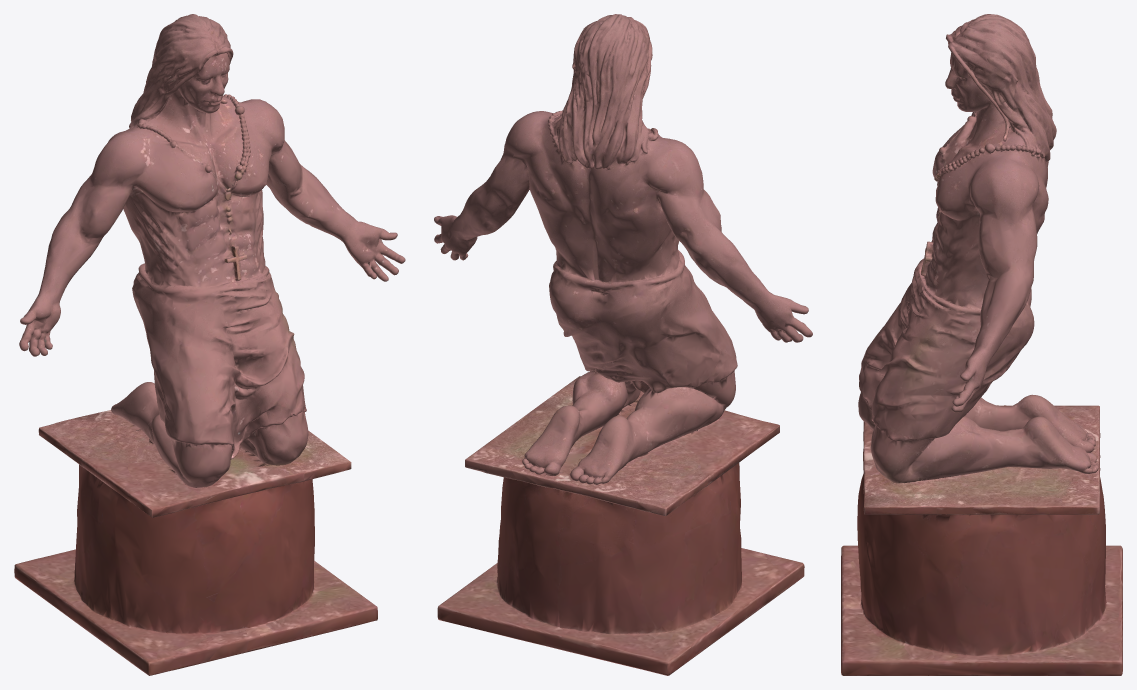
Rendered from Nativo_de_rodillas.glb.
3 views of the same model, side by side, from view 1: azimuth 30°, elevation 25°; view 2: azimuth 150°, elevation 25°; view 3: azimuth 270°, elevation 25° (orthographic). The views are drawn at different scales.
Size of the model in its own units: 1.31 by 1.9 by 0.8078.
1 material, 1 textured.
